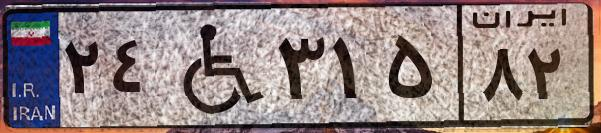1: (330, 28, 385, 110)
2: (57, 26, 110, 100), (525, 38, 570, 115)
3: (270, 28, 330, 110)
4: (110, 28, 158, 98)
5: (385, 28, 445, 110)
8: (475, 38, 525, 113)
ژ (معلولین و جانبازان): (158, 12, 270, 120)
